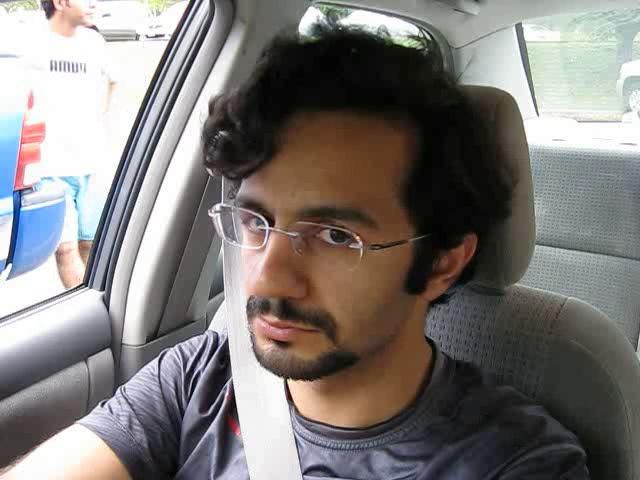no_yawn: (229, 284, 332, 351)
open_eyeL: (213, 200, 279, 249)
open_eyeR: (294, 209, 378, 261)
